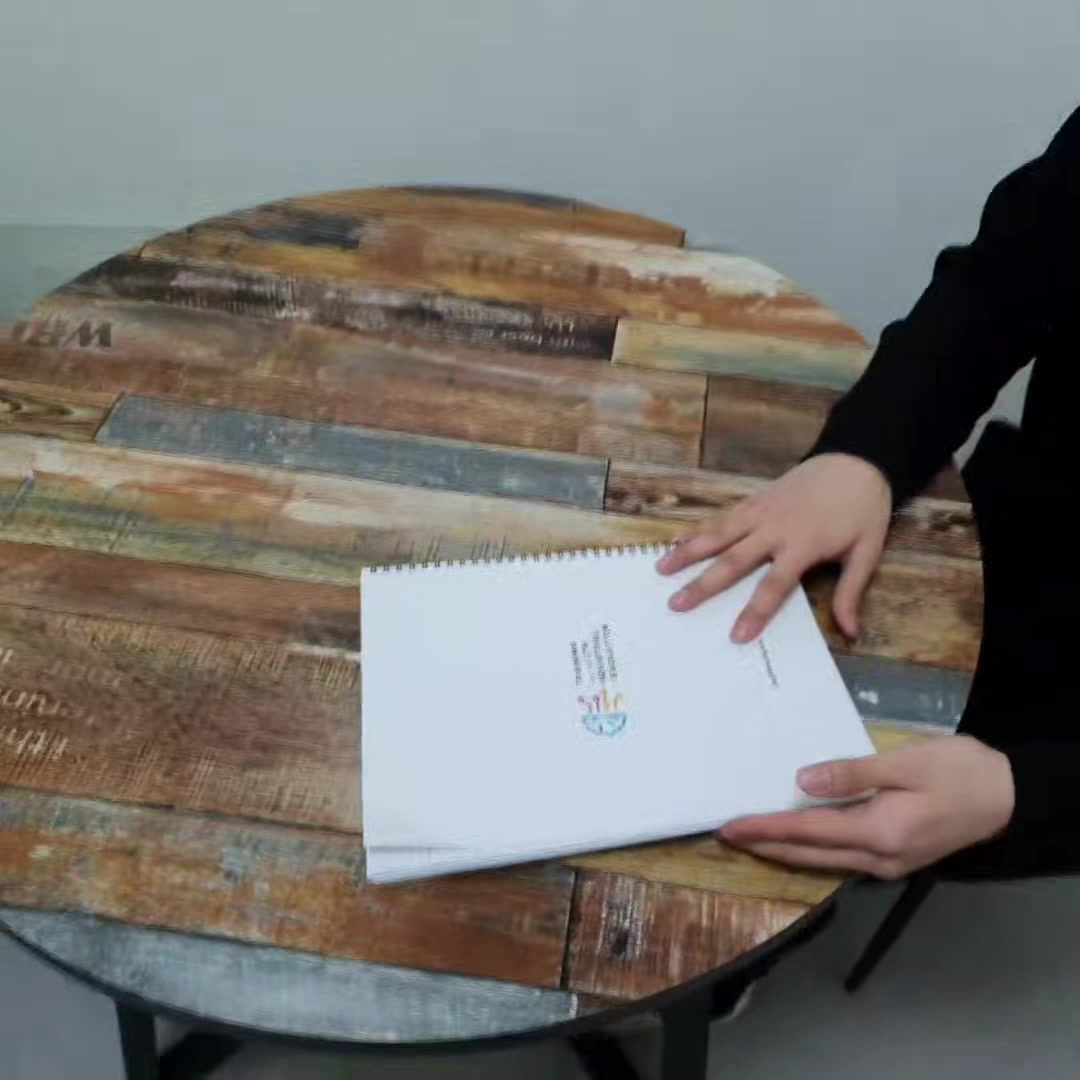book: (348, 507, 891, 881)
